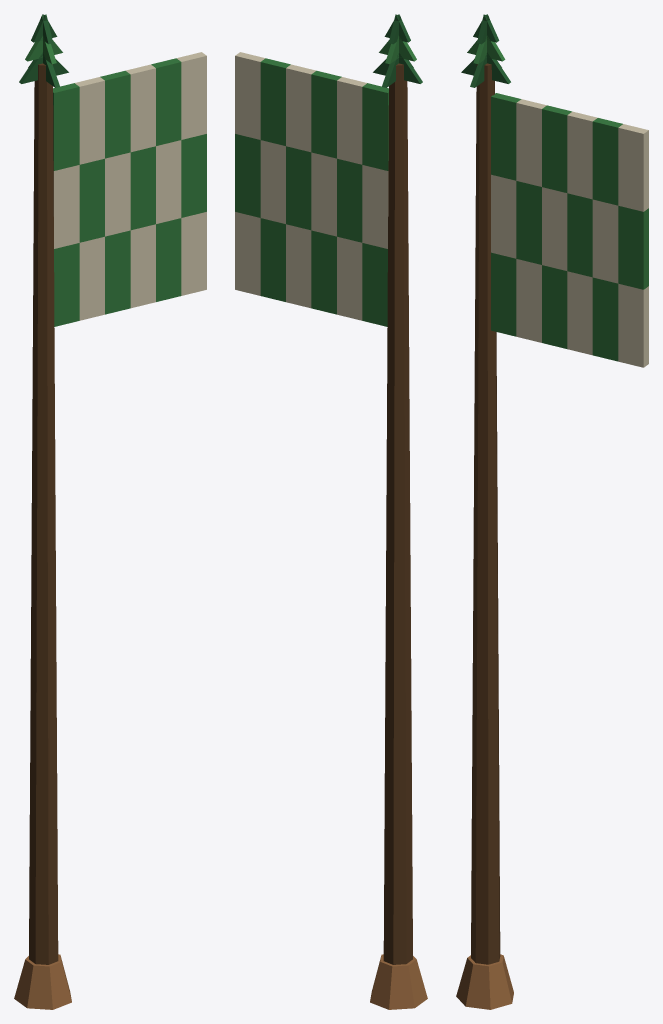
Rendered from flag.glb.
3 views of the same model, side by side, from view 1: azimuth 30°, elevation 25°; view 2: azimuth 150°, elevation 25°; view 3: azimuth 330°, elevation 25° (orthographic).
Parts seen in each view (by area): view 1: pineValley-flag; view 2: pineValley-flag; view 3: pineValley-flag.
Boxes of the visible parts, x1,y1,x2,y2 form: pineValley-flag: (14, 14, 206, 1009); pineValley-flag: (235, 14, 427, 1009); pineValley-flag: (456, 14, 648, 1009).
Bounding box in the file's own units: 0.247 × 1.26 × 0.0682.
